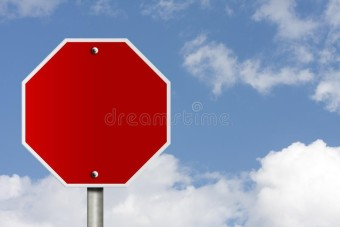SS: (23, 38, 168, 186)
